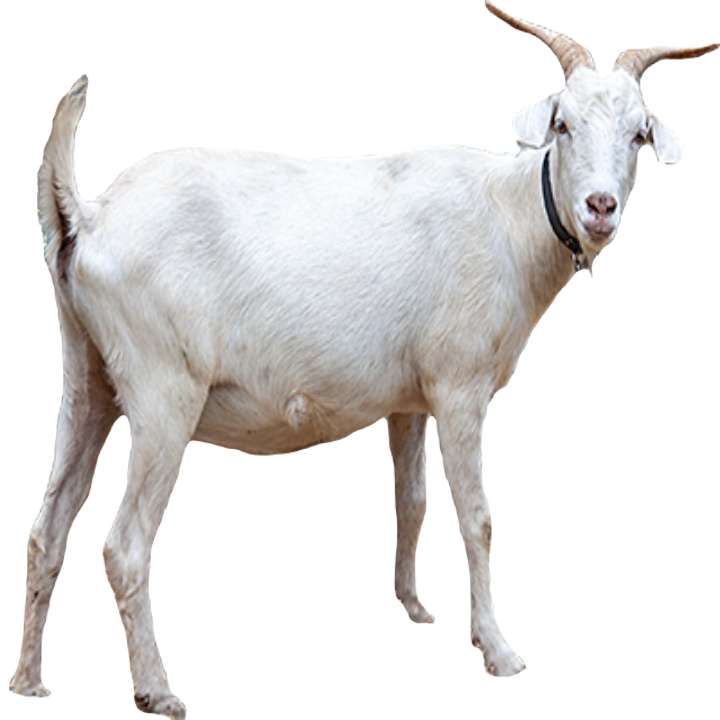Goat: (1, 0, 719, 720)
